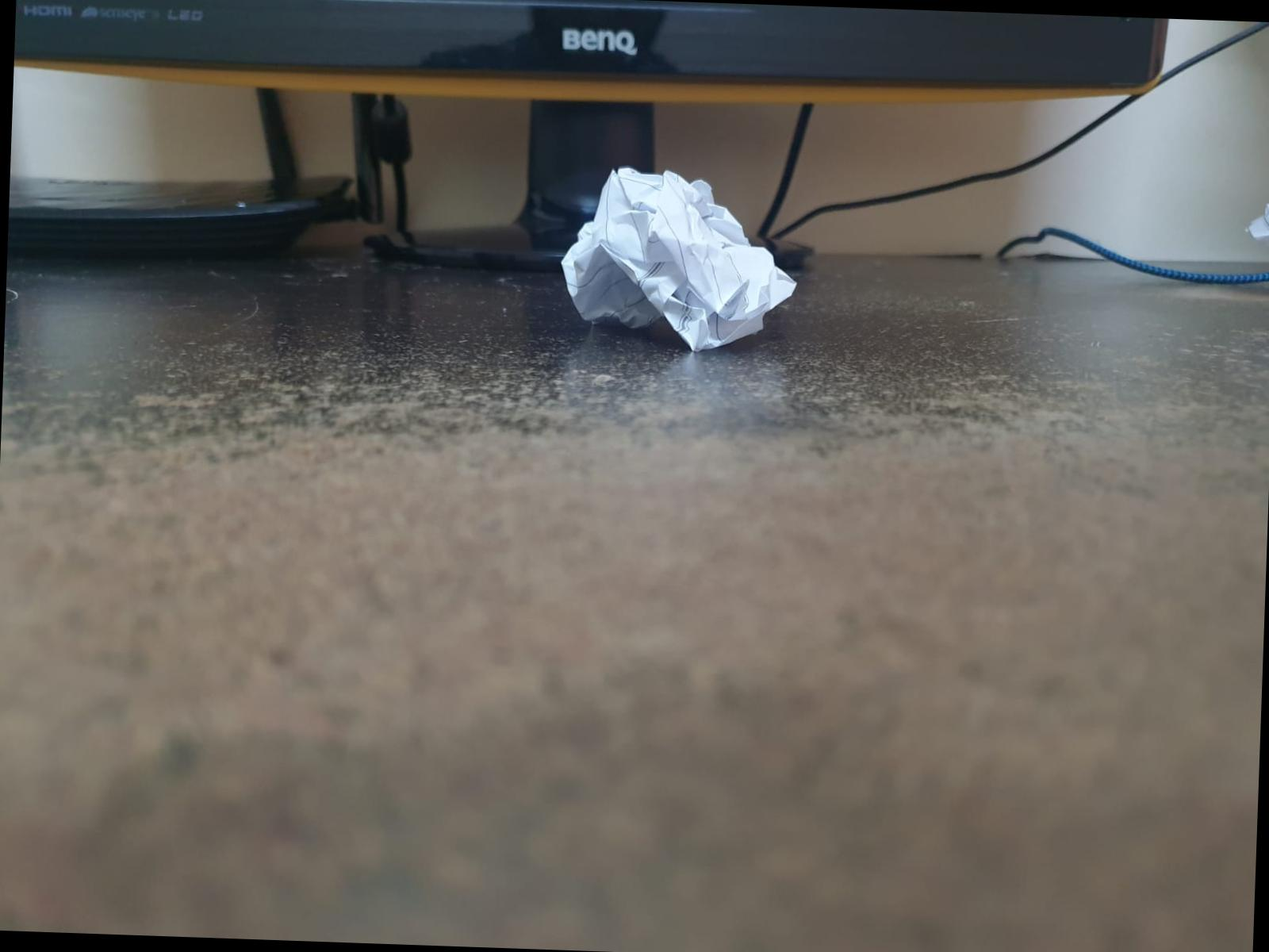Kertas: (562, 167, 794, 350)
